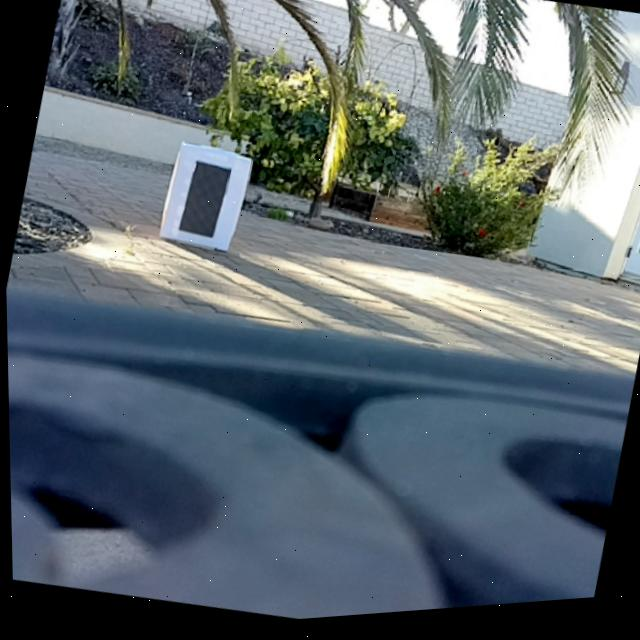led: (173, 158, 233, 245)
